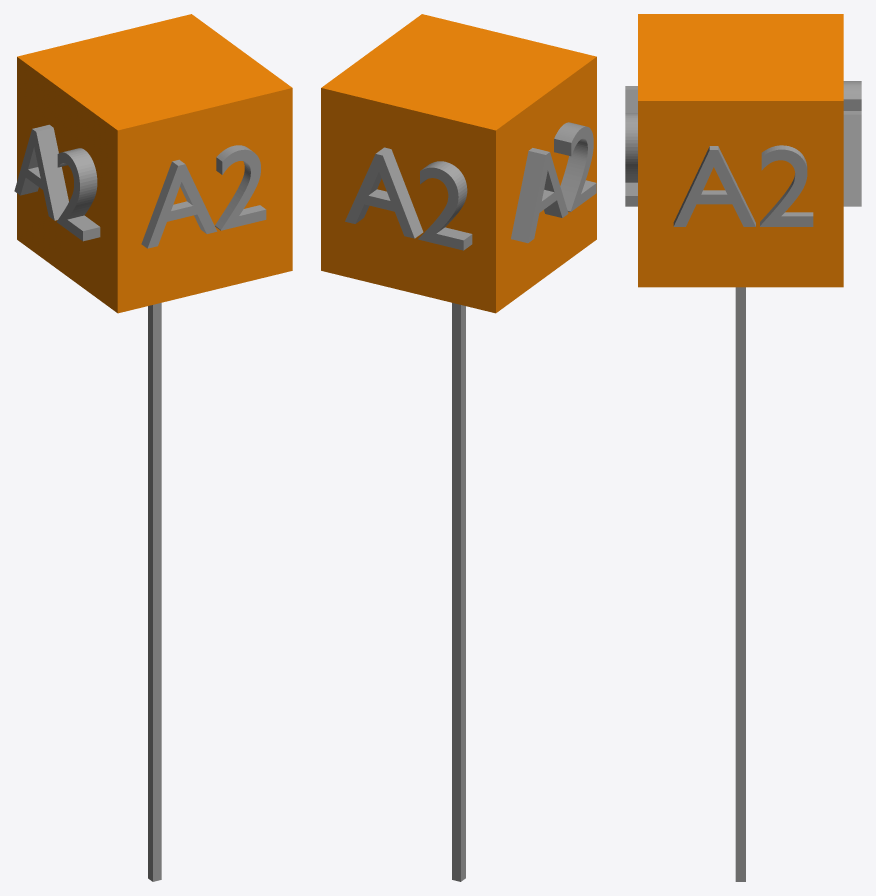
File: gate.obj
3 renders of one model, left to right at view 1: azimuth 30°, elevation 25°; view 2: azimuth 150°, elevation 25°; view 3: azimuth 270°, elevation 25°, orthographic.
Size of the model in its own units: 2.3 by 8.82 by 2.3.
